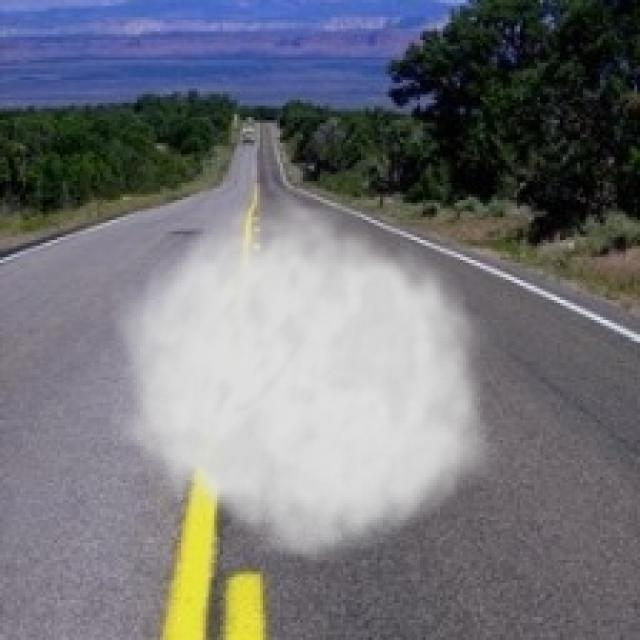smoke: (108, 186, 506, 571)
